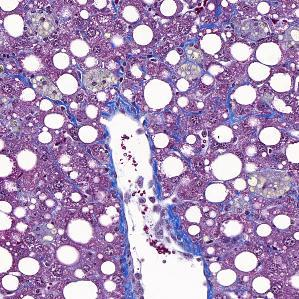fibrosis: (85, 66, 147, 115)
